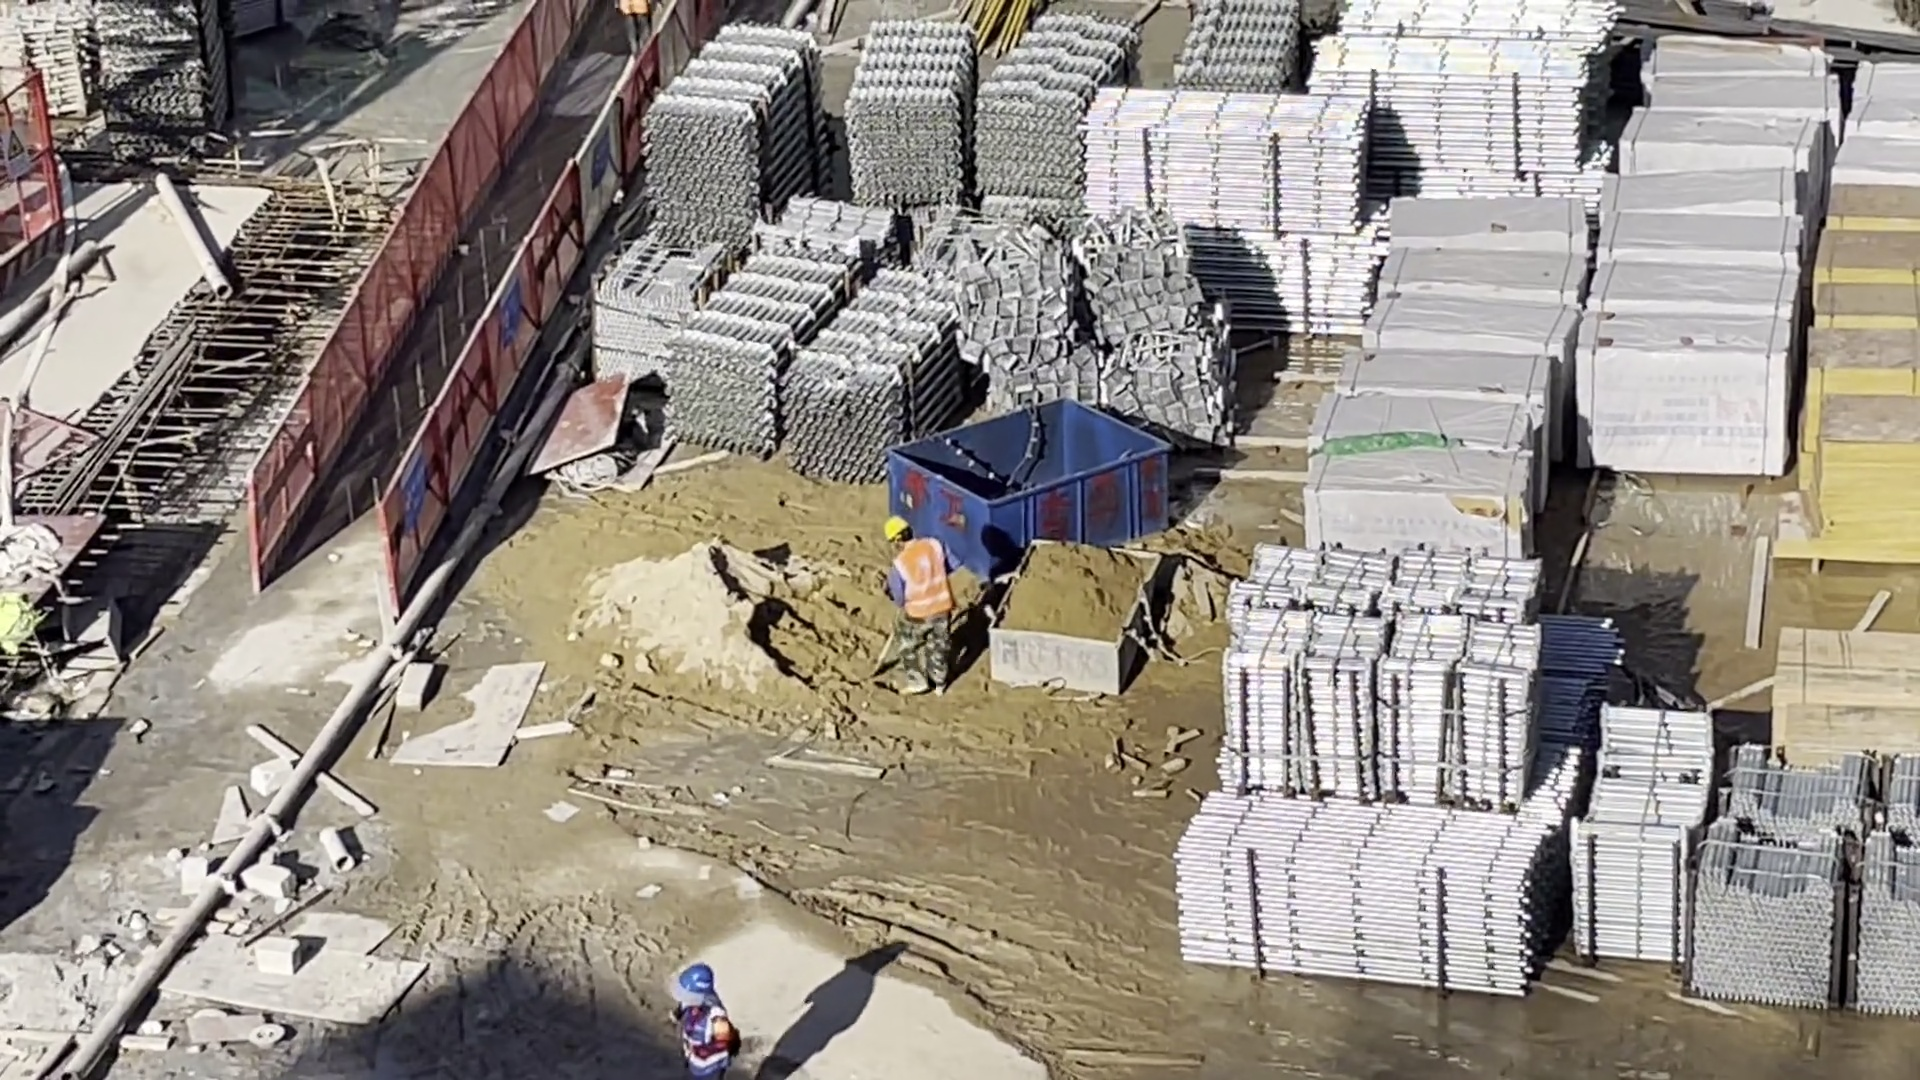board: (1820, 185, 1920, 567), (1773, 630, 1920, 768)
fence: (255, 3, 692, 585)
helmet: (680, 964, 715, 995), (883, 517, 908, 539)
hopper: (885, 403, 1171, 569), (988, 538, 1162, 697)
person: (888, 514, 955, 700), (673, 966, 738, 1080), (615, 1, 654, 50)
scaffold: (1177, 788, 1550, 1003), (1228, 542, 1531, 801), (1083, 85, 1374, 329), (671, 249, 973, 483), (1696, 756, 1920, 1012), (847, 20, 1132, 206), (1312, 33, 1605, 176), (642, 30, 820, 243), (1571, 703, 1709, 958), (97, 1, 229, 139), (1193, 1, 1304, 104), (19, 6, 113, 120)
slogan: (497, 276, 521, 349), (402, 446, 425, 523)
vest: (894, 537, 948, 620), (682, 1001, 725, 1080)
